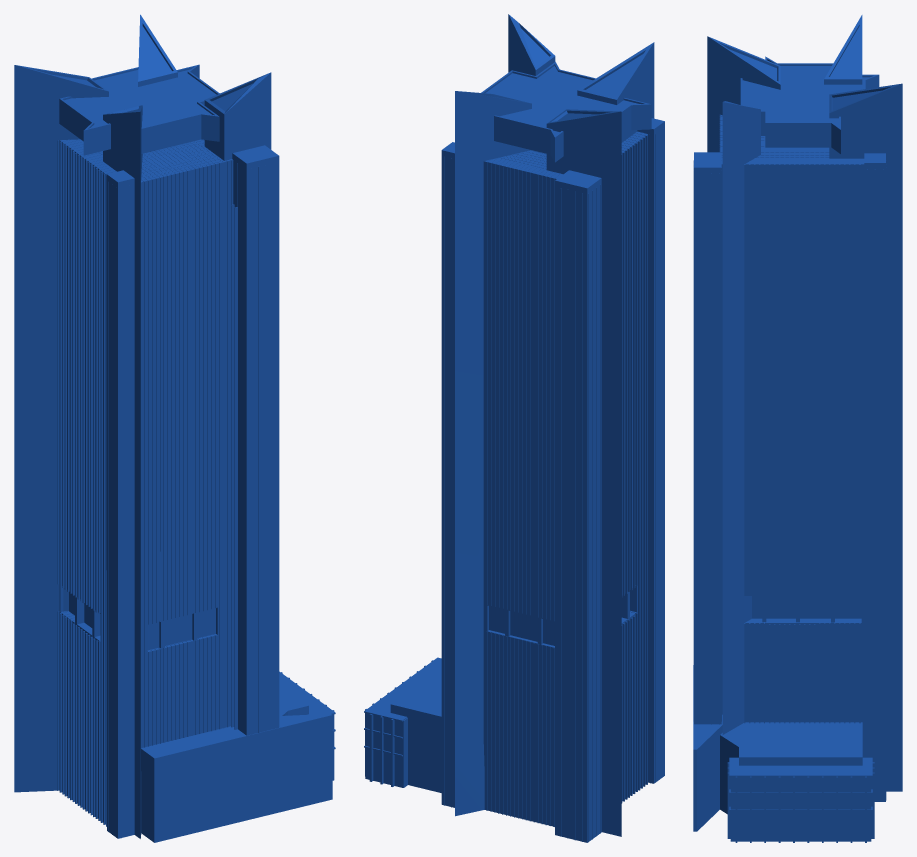
3 renders of one model, left to right at view 1: azimuth 30°, elevation 25°; view 2: azimuth 150°, elevation 25°; view 3: azimuth 270°, elevation 25°, orthographic. The views are drawn at different scales.
Visible parts, largest first — view 1: 1515_hipoly.obj; view 2: 1515_hipoly.obj; view 3: 1515_hipoly.obj.
Boxes of the visible parts, <box> form: 1515_hipoly.obj: <box>14,14,335,842</box>; 1515_hipoly.obj: <box>364,14,664,842</box>; 1515_hipoly.obj: <box>693,15,902,842</box>.
Size of the model in its own units: 13.73 by 37.44 by 10.02.
